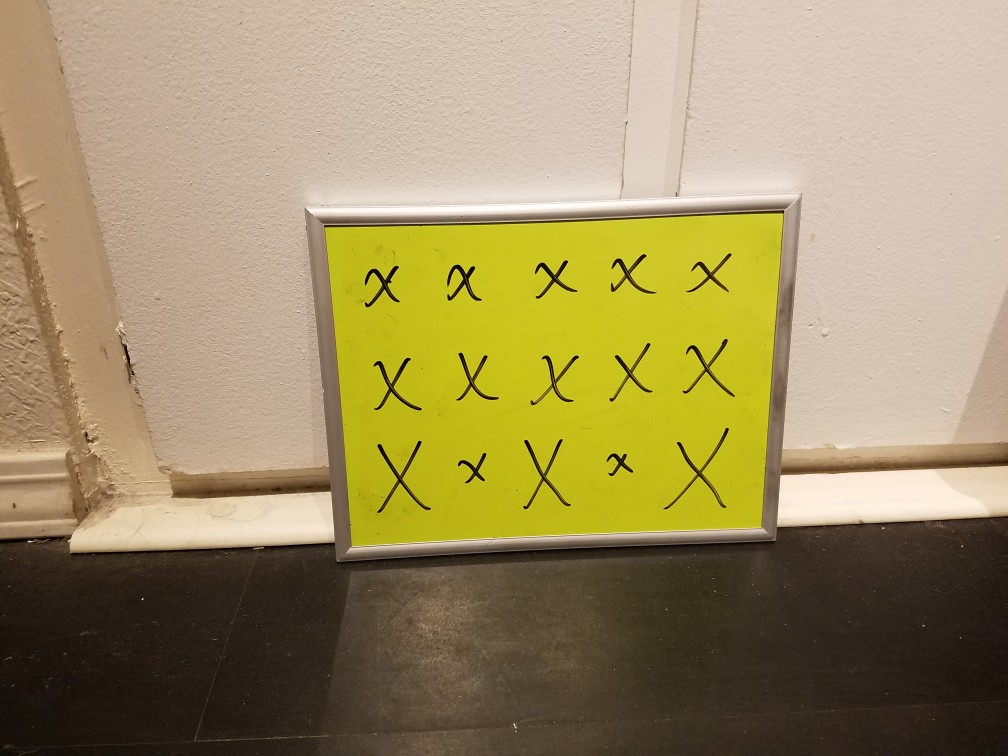x: (663, 418, 742, 522), (509, 421, 583, 524), (366, 428, 433, 526), (674, 324, 740, 415), (598, 333, 665, 417), (675, 232, 742, 315), (368, 342, 429, 421), (517, 241, 579, 316), (435, 330, 495, 407), (527, 332, 579, 417), (595, 239, 652, 313), (350, 253, 404, 328), (436, 248, 494, 315), (605, 434, 642, 492), (453, 445, 489, 495)
